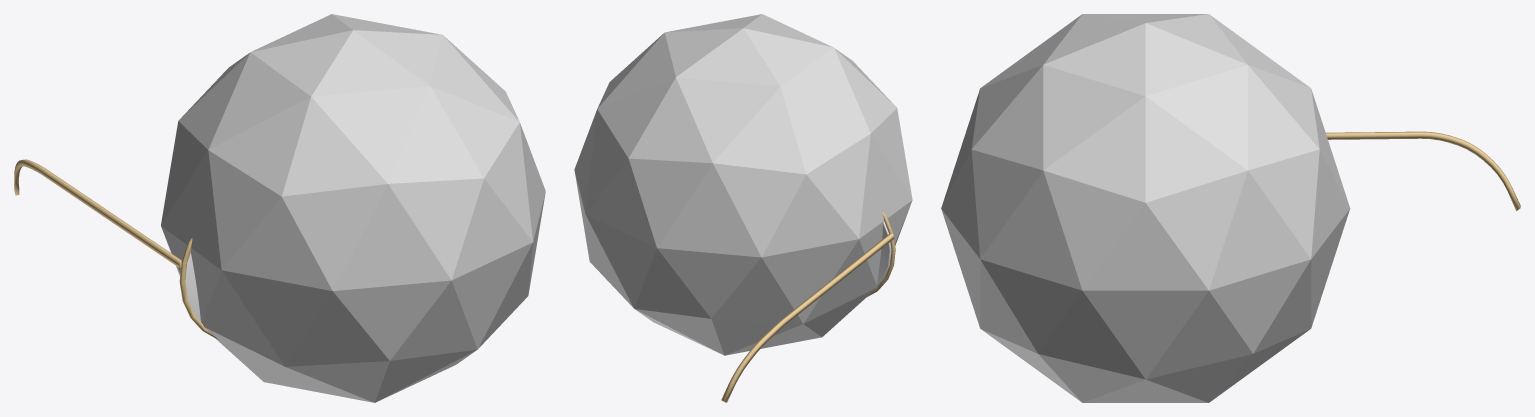
File: circlemodel.glb
3 views of the same model, side by side, from view 1: azimuth 30°, elevation 25°; view 2: azimuth 150°, elevation 25°; view 3: azimuth 270°, elevation 25° (orthographic). The views are drawn at different scales.
Visible parts, largest first — view 1: Icosphere, glasses frame, glasses lenses; view 2: Icosphere, glasses frame, glasses lenses; view 3: Icosphere, glasses frame.
Boxes of the visible parts, x1=… form: Icosphere: x1=161, y1=14, x2=545, y2=402; glasses frame: x1=14, y1=159, x2=218, y2=339; glasses lenses: x1=185, y1=252, x2=200, y2=321; Icosphere: x1=574, y1=14, x2=912, y2=355; glasses frame: x1=721, y1=212, x2=895, y2=402; glasses lenses: x1=876, y1=221, x2=891, y2=286; Icosphere: x1=941, y1=14, x2=1350, y2=402; glasses frame: x1=1326, y1=131, x2=1520, y2=210.
Bounding box in the file's own units: 0.1252 × 0.1247 × 0.1767.
